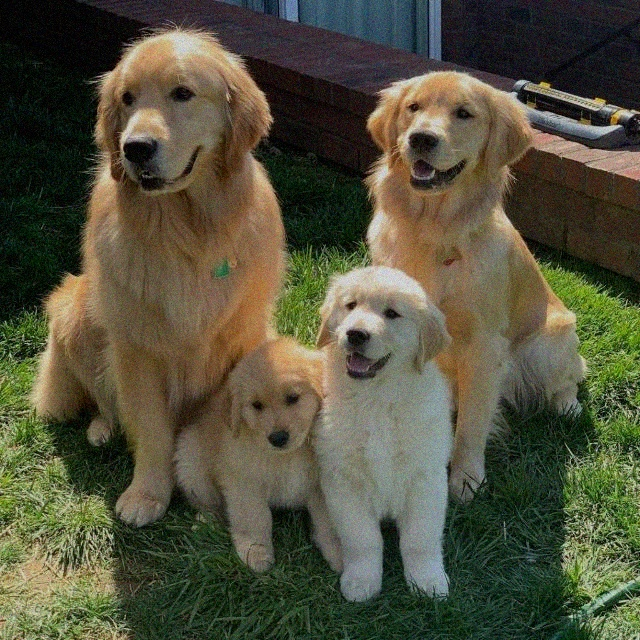dog: (27, 0, 285, 462), (381, 48, 587, 462), (286, 247, 486, 611)
